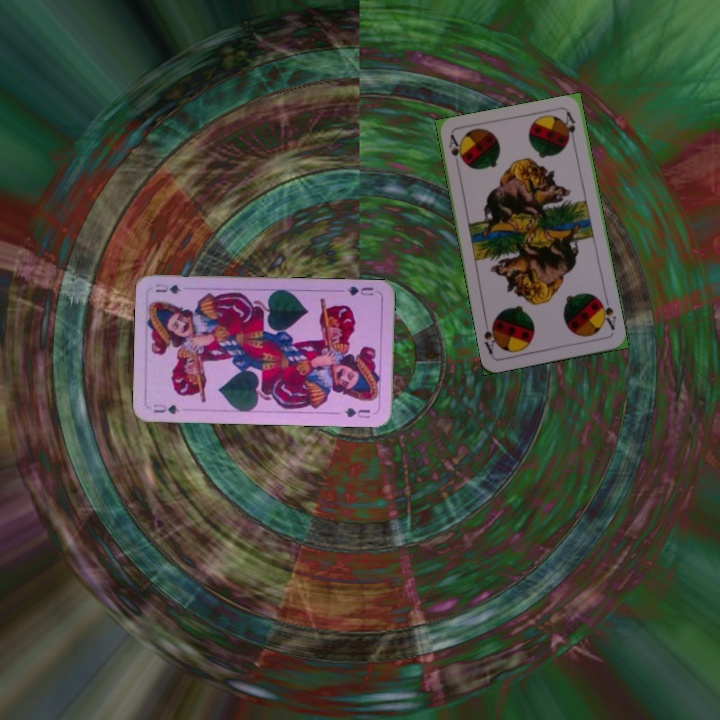GU: (150, 400, 182, 417), (343, 282, 376, 298)
SA: (595, 294, 619, 332), (445, 131, 466, 172)
